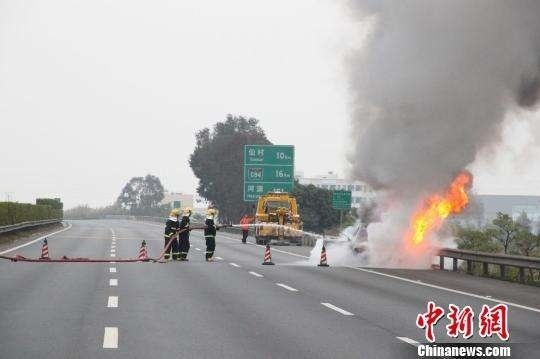fire: (403, 169, 471, 247)
